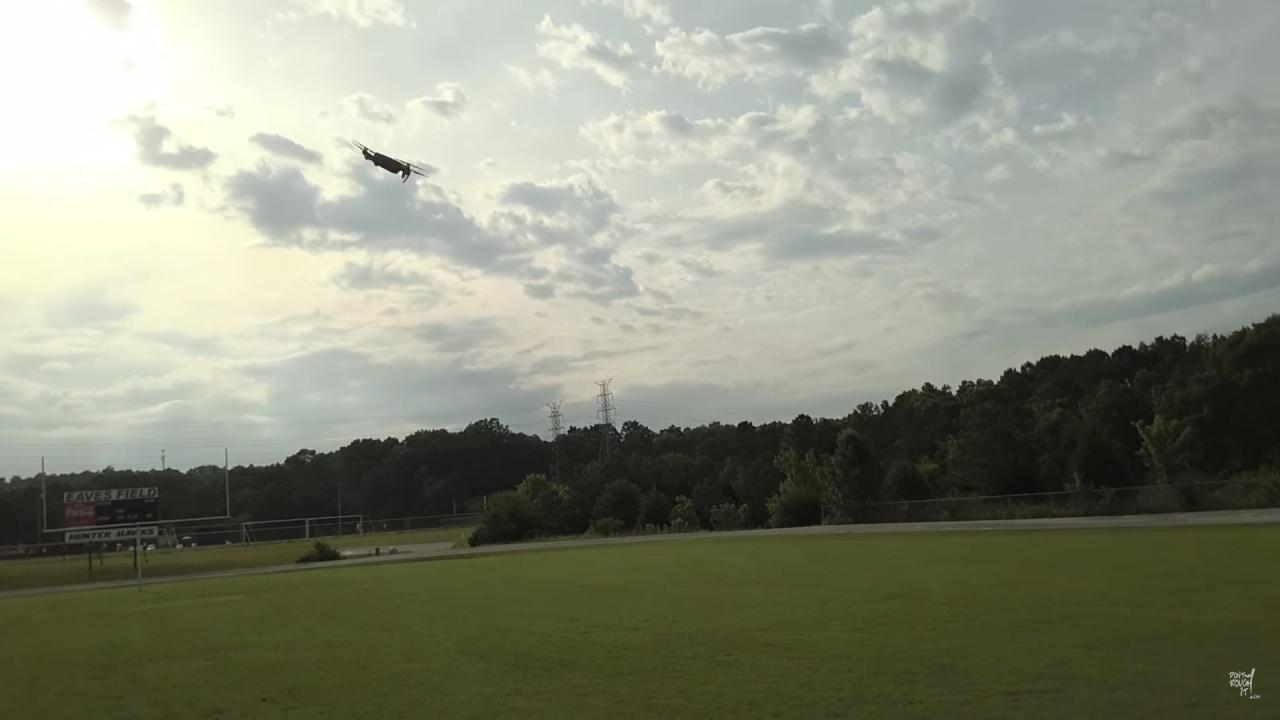Drone: (336, 126, 432, 192)
